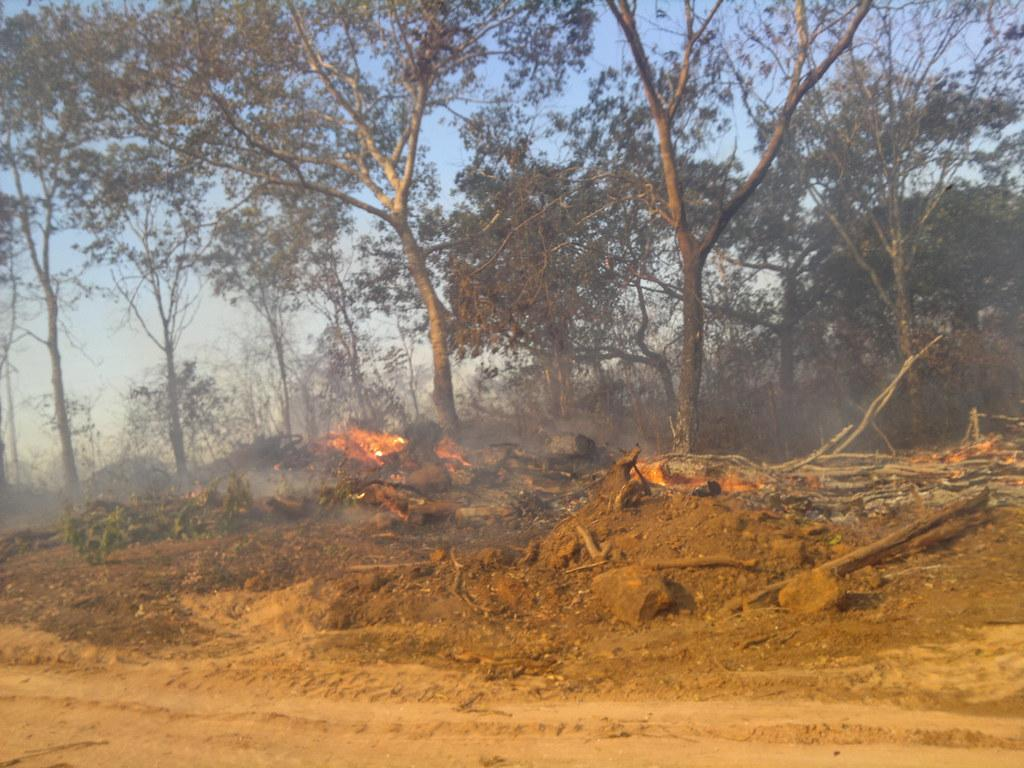Fire: (315, 426, 408, 466)
